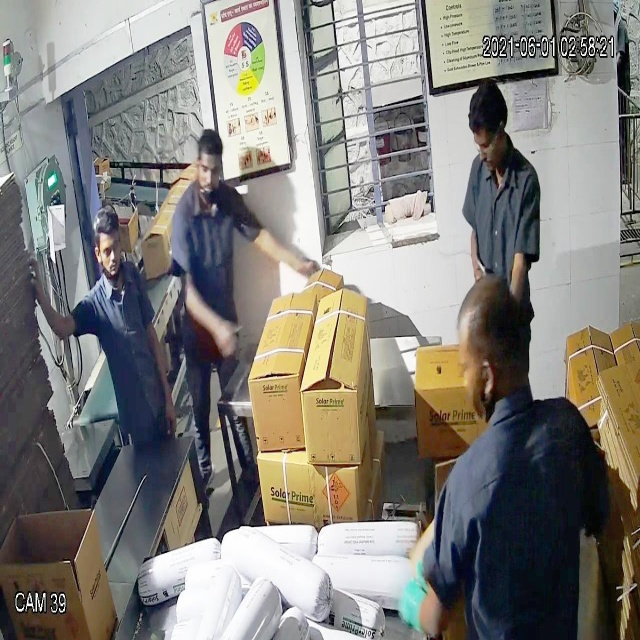Sin_gafas: (93, 231, 124, 267)
